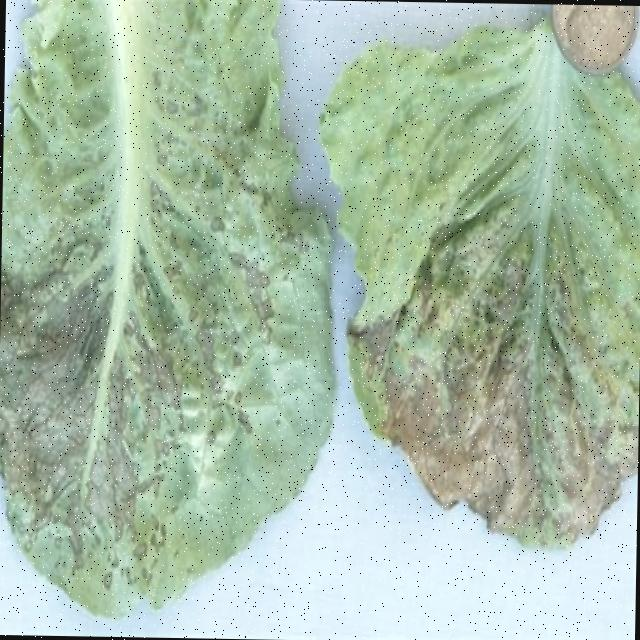Wilt_and_leaf_blight_on_lettuce: (8, 6, 302, 590), (355, 7, 640, 560)
